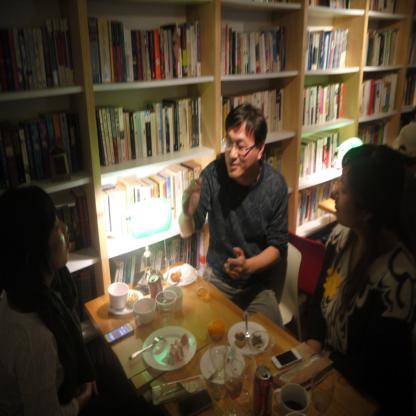book: (0, 0, 416, 289), (116, 174, 129, 206)
